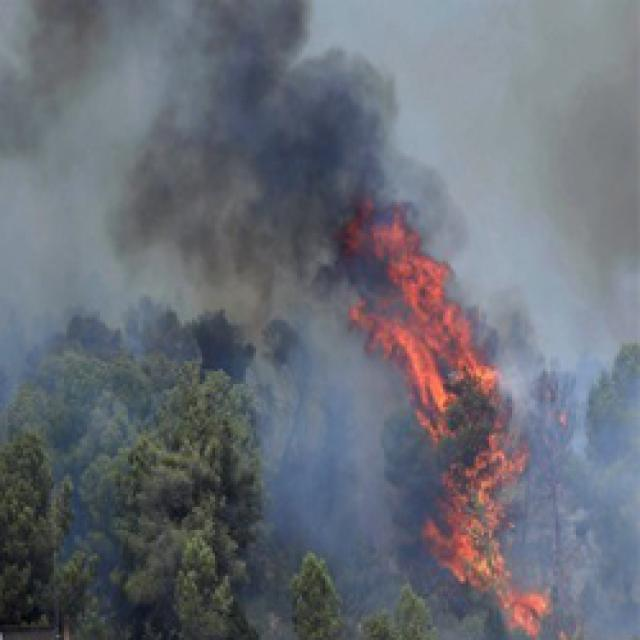Fire: (338, 216, 592, 640)
Smoke: (0, 0, 458, 290), (218, 209, 394, 597), (435, 0, 640, 300), (0, 284, 195, 558), (511, 283, 640, 640)
